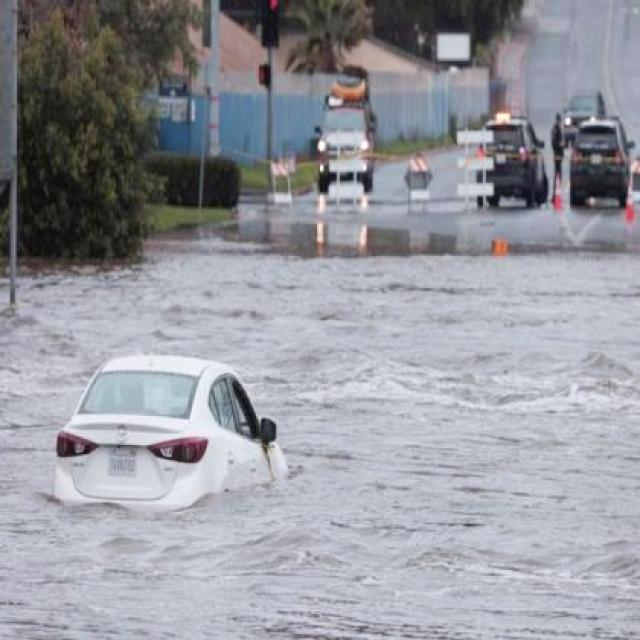water: (4, 215, 639, 639), (0, 475, 638, 638)
